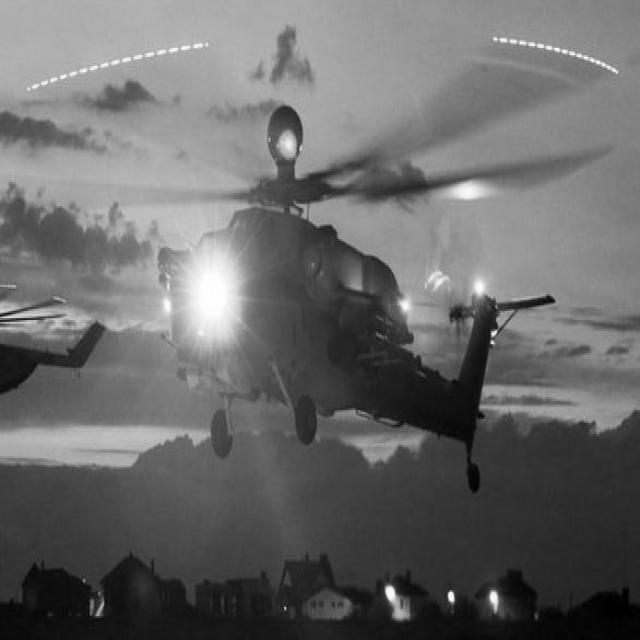helicopter: (133, 104, 559, 494)
